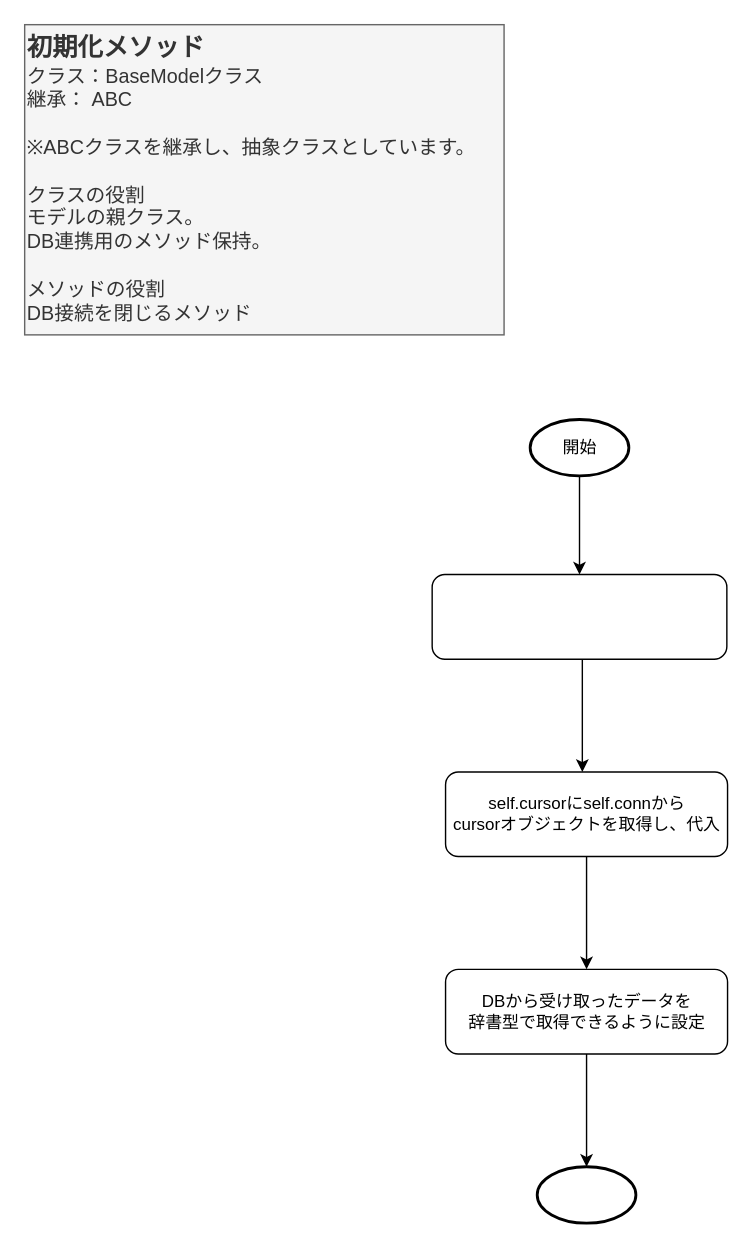
This 753x1249 diagram has some shape labels left out. Each missing label, with the centre of its shape:
"self.connにsample.dbに接続した オブジェクトを代入" belongs at (579,616).
"終了" belongs at (586,1194).
